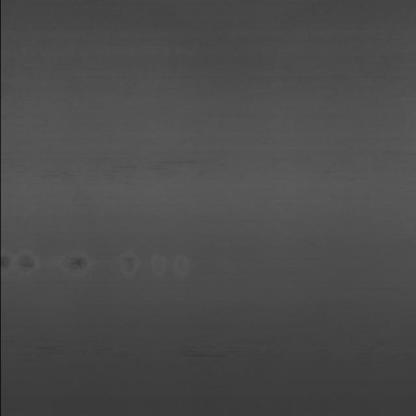water_spot: (8, 251, 200, 281)
